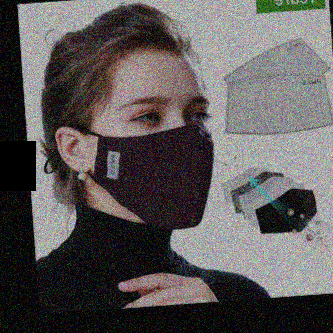with_mask: (90, 92, 216, 235)
